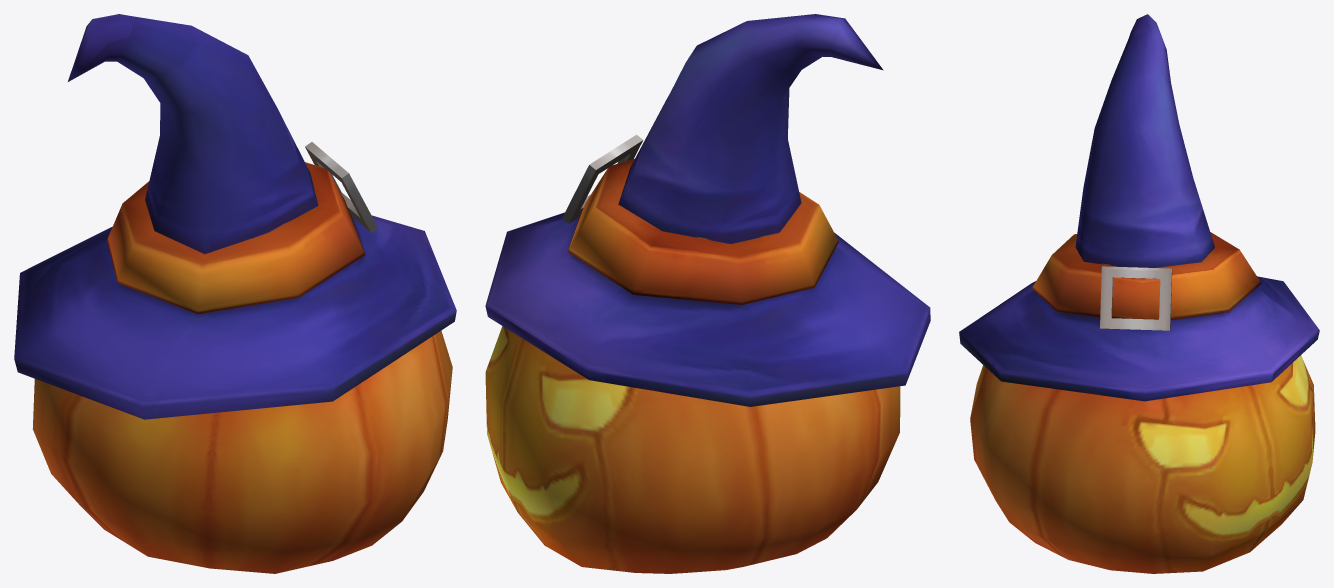
The model's file is pumpkinwitch.glb.
3 renders of one model, left to right at view 1: azimuth 30°, elevation 25°; view 2: azimuth 150°, elevation 25°; view 3: azimuth 270°, elevation 25°, orthographic. The views are drawn at different scales.
Visible parts, largest first — view 1: pumpkinwitch; view 2: pumpkinwitch; view 3: pumpkinwitch.
Part boxes in pixels (box(x1,y1,x2,y2)): pumpkinwitch: box(14, 14, 456, 573); pumpkinwitch: box(485, 14, 930, 573); pumpkinwitch: box(959, 14, 1319, 573).
Bounding box in the file's own units: 0.6125 × 0.7987 × 0.5682.
1 material, 1 textured.
